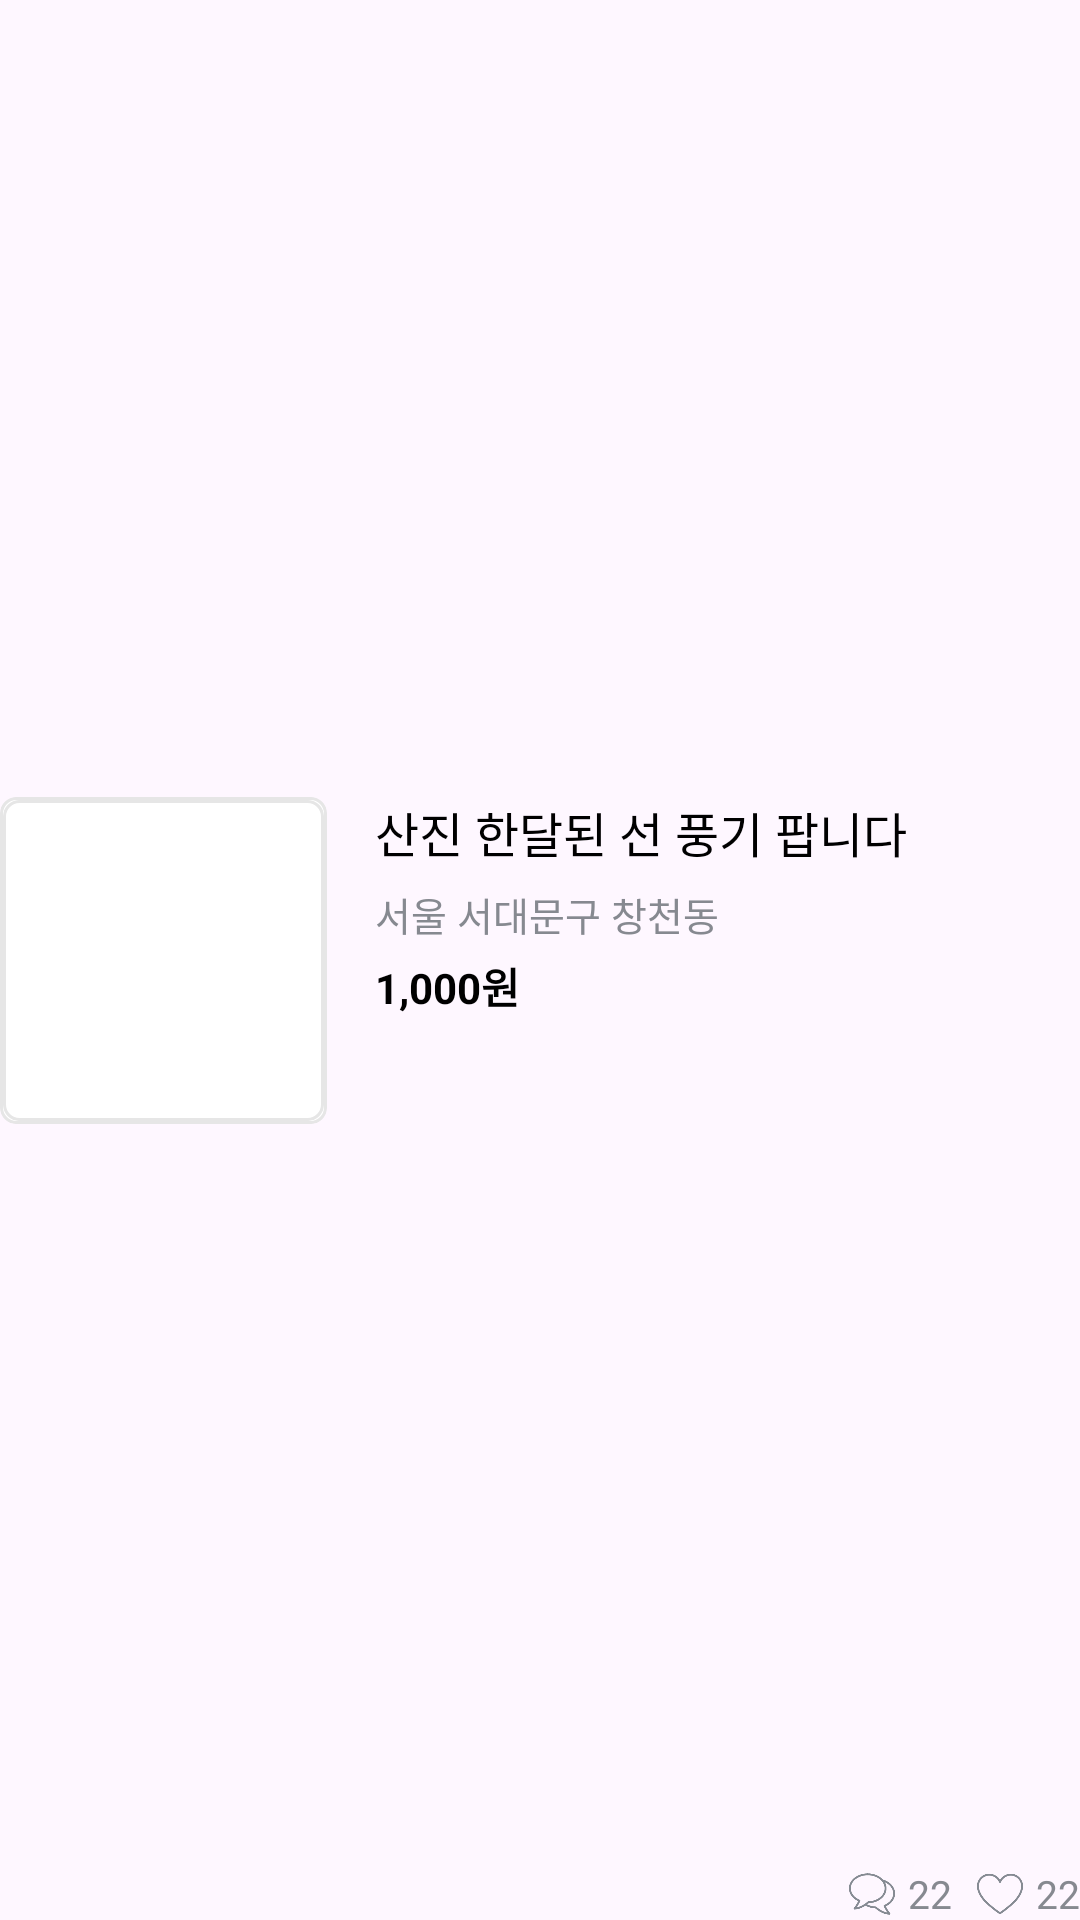

Icon click points for this 1080w x 1920h phone screenshot, format [x,y]:
chat: [872,1894]
heart: [1000,1894]
